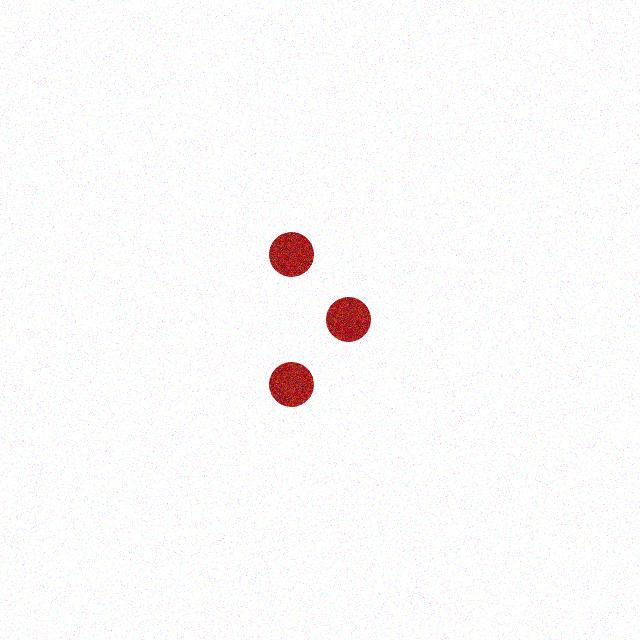O: (266, 229, 373, 410)
